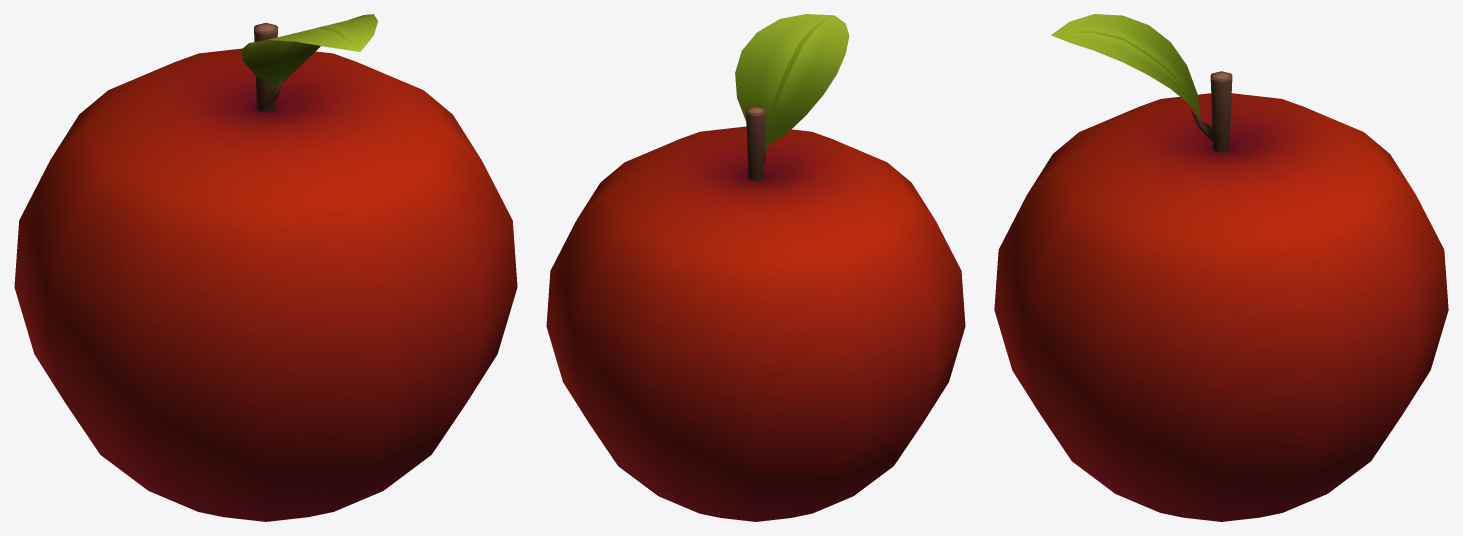
Rendered from Apple_R.fbx.
3 renders of one model, left to right at view 1: azimuth 30°, elevation 25°; view 2: azimuth 150°, elevation 25°; view 3: azimuth 270°, elevation 25°, orthographic. The views are drawn at different scales.
Parts seen in each view (by area): view 1: Apple_R_Whole; view 2: Apple_R_Whole; view 3: Apple_R_Whole.
Part boxes in pixels (x1,y1,x2,y2): Apple_R_Whole: (14, 14, 517, 521); Apple_R_Whole: (546, 14, 965, 521); Apple_R_Whole: (994, 14, 1448, 521).
Bounding box in the file's own units: 1.66 × 1.88 × 1.66.
